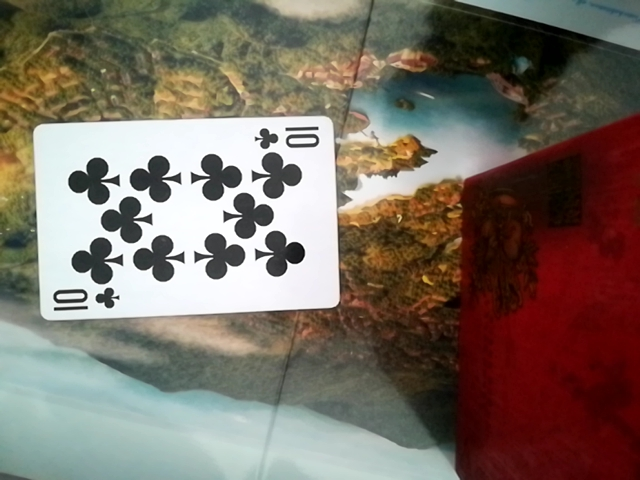mh 10: (28, 121, 337, 322)
